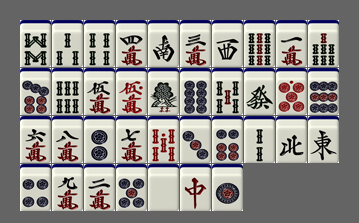0m: (116, 68, 147, 115)
0p: (276, 68, 307, 115)
0s: (148, 116, 179, 163)
1m: (276, 20, 307, 67)
1p: (212, 164, 243, 211)
1s: (148, 68, 179, 115)
1z: (308, 116, 339, 163)
2m: (84, 164, 115, 211)
2p: (84, 116, 115, 163)
2s: (244, 116, 275, 163)
2z: (148, 20, 179, 67)
3m: (180, 20, 211, 67)
3p: (180, 116, 211, 163)
3s: (52, 20, 83, 67)
3z: (212, 20, 243, 67)
4m: (116, 20, 147, 67)
4p: (20, 164, 51, 211)
4s: (84, 20, 115, 67)
4z: (276, 116, 307, 163)
5m: (84, 68, 115, 115)
5p: (116, 164, 147, 211)
5s: (212, 68, 243, 115)
5z: (148, 164, 179, 211)
6m: (20, 116, 51, 163)
6p: (212, 116, 243, 163)
6s: (52, 68, 83, 115)
6z: (244, 68, 275, 115)
7m: (116, 116, 147, 163)
7p: (20, 68, 51, 115)
7s: (308, 20, 339, 67)
7z: (180, 164, 211, 211)
8m: (52, 116, 83, 163)
8p: (180, 68, 211, 115)
8s: (20, 20, 51, 67)
9m: (52, 164, 83, 211)
9p: (308, 68, 339, 115)
9s: (244, 20, 275, 67)
